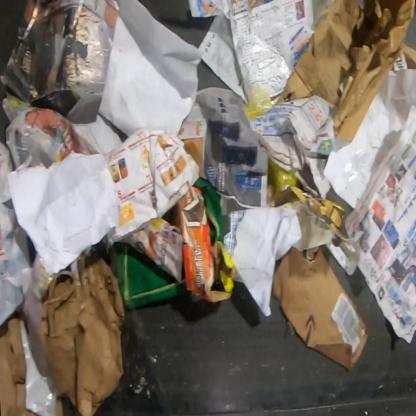cardboard: (274, 0, 415, 142), (42, 254, 125, 416), (273, 246, 370, 370), (0, 312, 27, 414), (54, 392, 63, 416)
soft_plastic: (6, 123, 40, 172), (239, 82, 274, 124), (269, 159, 297, 200)
